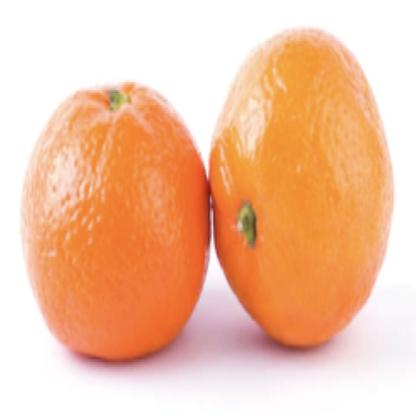fresh: (19, 29, 398, 357)
